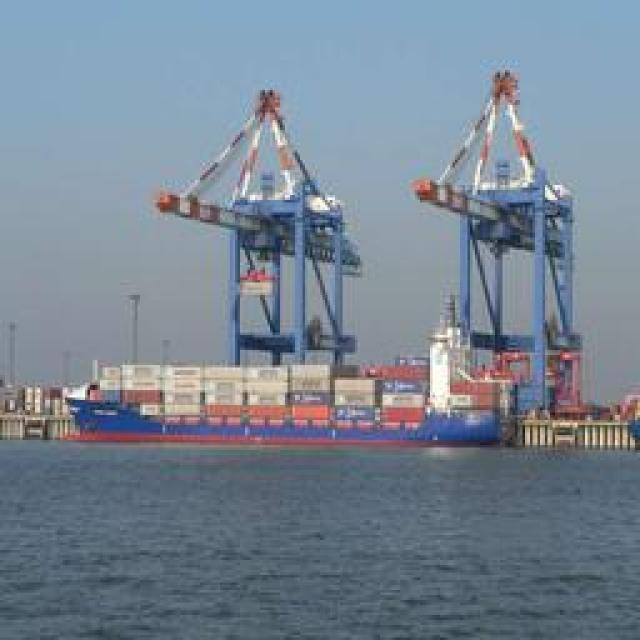ship2: (63, 282, 523, 449)
